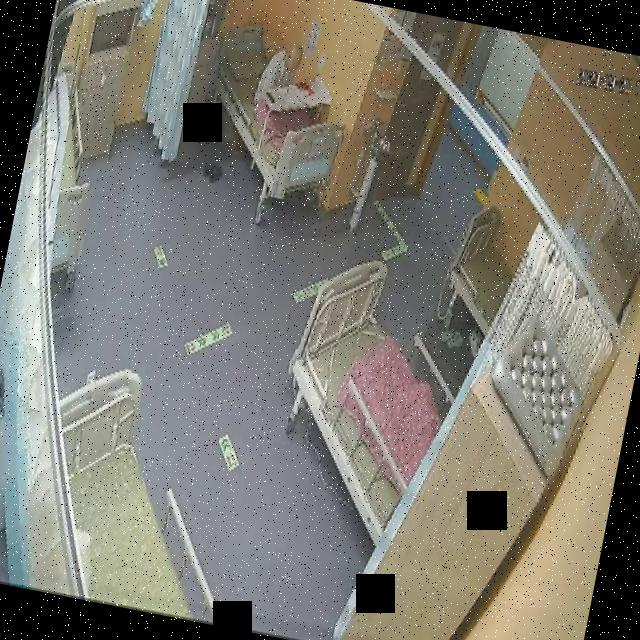bed: (22, 356, 268, 628), (265, 252, 468, 548), (193, 22, 360, 208), (437, 202, 525, 340)
patient: (250, 36, 306, 115)
sit: (250, 36, 306, 114)
